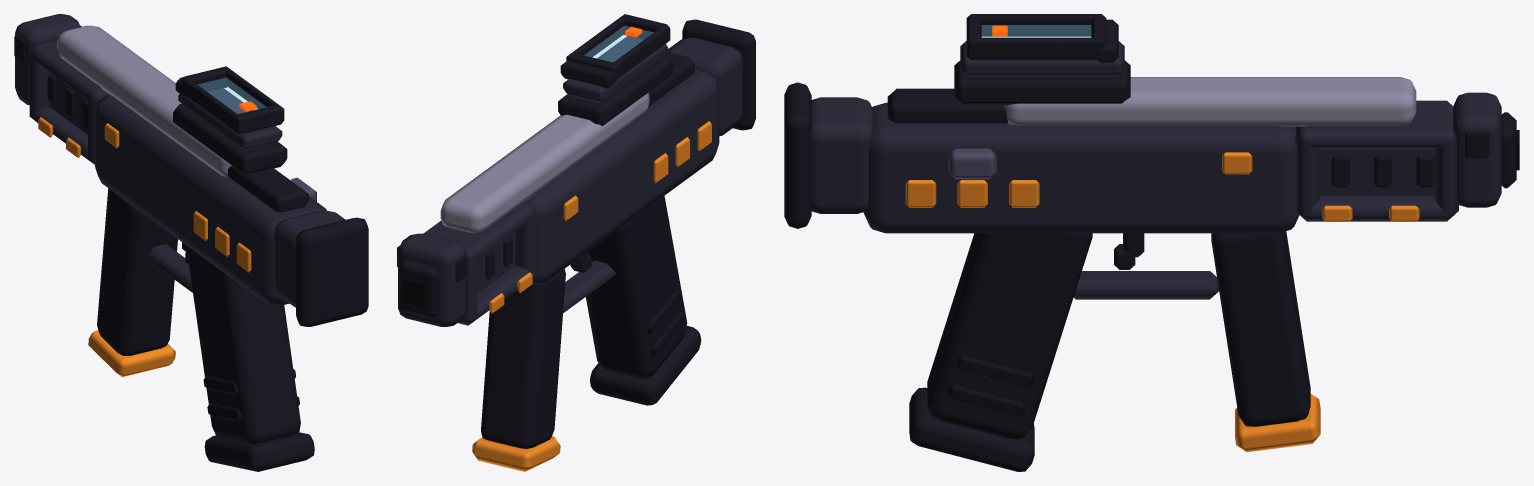
Rendered from rifle_security.glb.
The picture shows the model from 3 angles, left to right: view 1: azimuth 30°, elevation 25°; view 2: azimuth 150°, elevation 25°; view 3: azimuth 270°, elevation 25°; orthographic projection. The views are drawn at different scales.
Parts seen in each view (by area): view 1: item.rifle_security.body, part.mag, part.sight; view 2: item.rifle_security.body, part.mag, part.sight; view 3: item.rifle_security.body, part.mag, part.sight, part.bolt.
Part boxes in pixels (box(x1,y1,x2,y2)): item.rifle_security.body: box(14, 14, 368, 471); part.mag: box(88, 188, 177, 377); part.sight: box(181, 66, 284, 134); item.rifle_security.body: box(397, 19, 755, 405); part.mag: box(472, 269, 565, 471); part.sight: box(566, 14, 670, 79); item.rifle_security.body: box(784, 19, 1519, 471); part.mag: box(1211, 231, 1320, 452); part.sight: box(966, 14, 1106, 60); part.bolt: box(948, 148, 996, 179).
Size of the model in its own units: 0.1281 by 0.489 by 0.7562.
